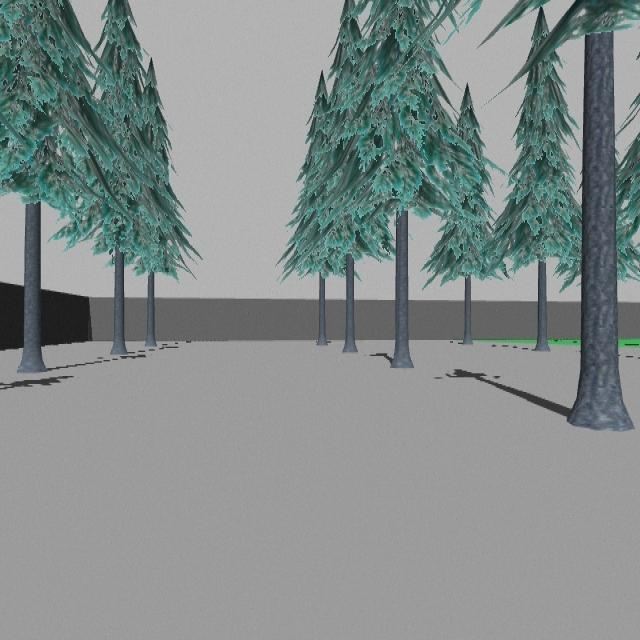tree: (322, 0, 482, 369)
